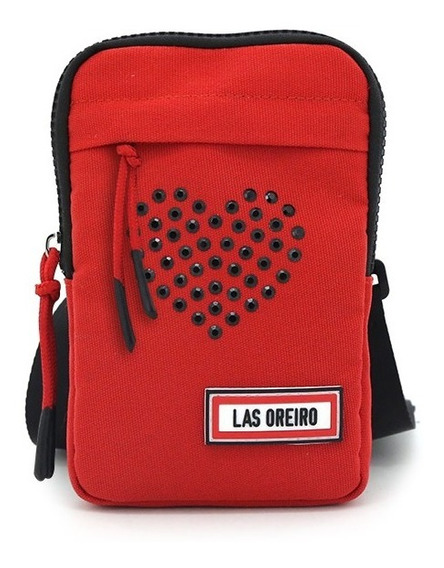cartera: (29, 27, 417, 513)
